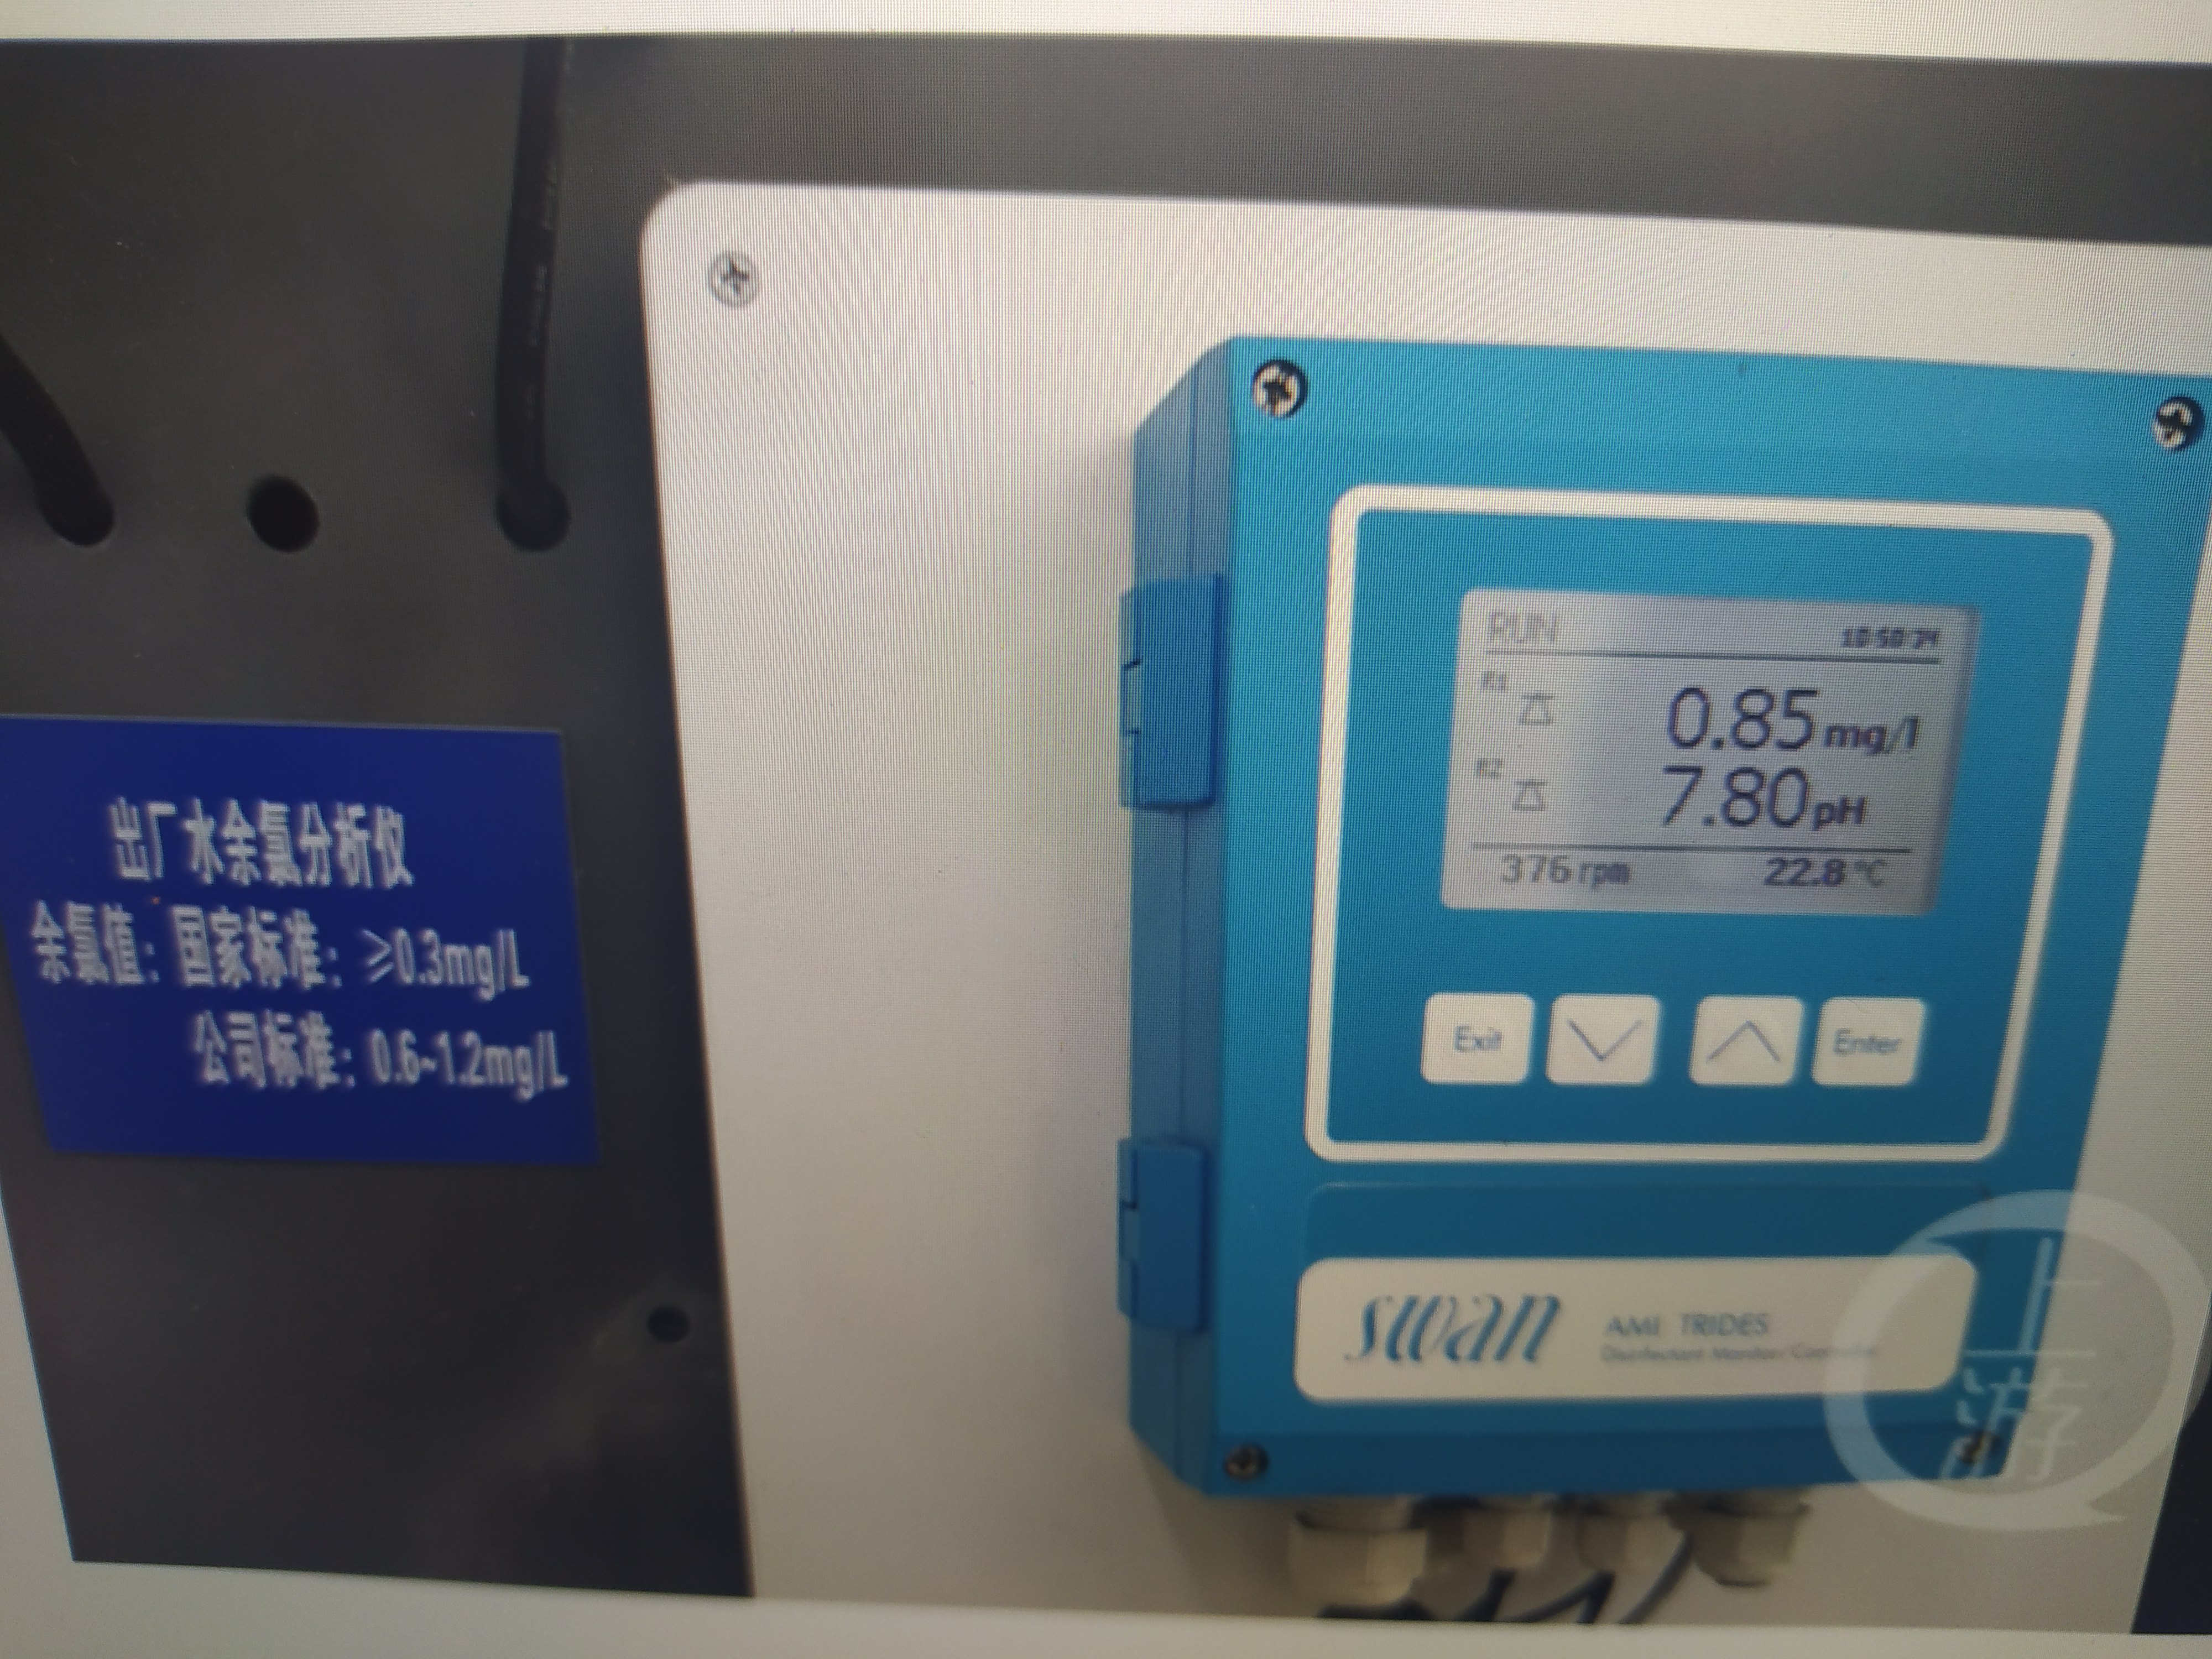.: (1716, 678, 1731, 753), (1707, 762, 1719, 840), (1811, 856, 1825, 894)
0: (1663, 681, 1712, 755), (1771, 763, 1815, 836)
2: (1764, 854, 1787, 894), (1792, 852, 1811, 899)
3: (1503, 849, 1524, 889)
5: (1778, 671, 1822, 760)
6: (1548, 843, 1573, 897)
7: (1662, 760, 1705, 838), (1527, 843, 1548, 889)
8: (1737, 676, 1775, 763), (1721, 760, 1764, 836), (1820, 850, 1844, 899)
